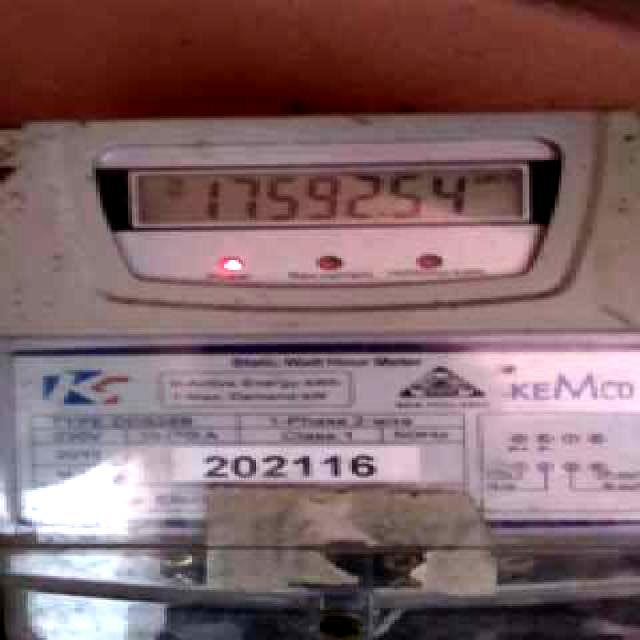LCD: (120, 160, 543, 230)
